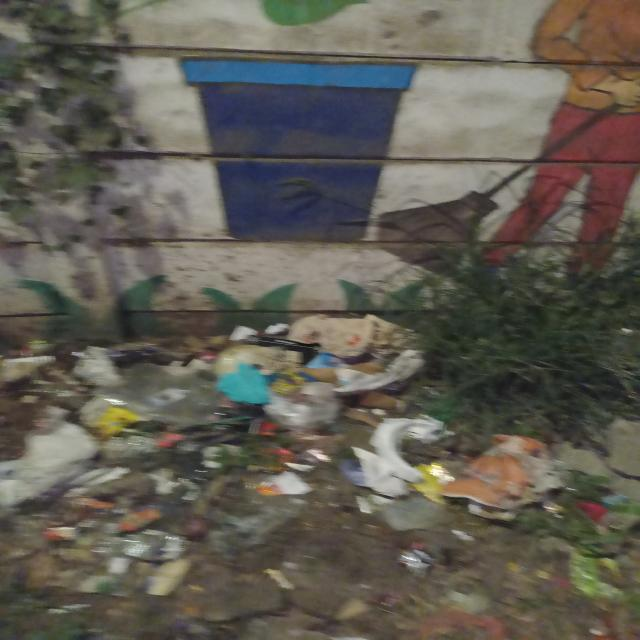garbage: (6, 318, 640, 639)
